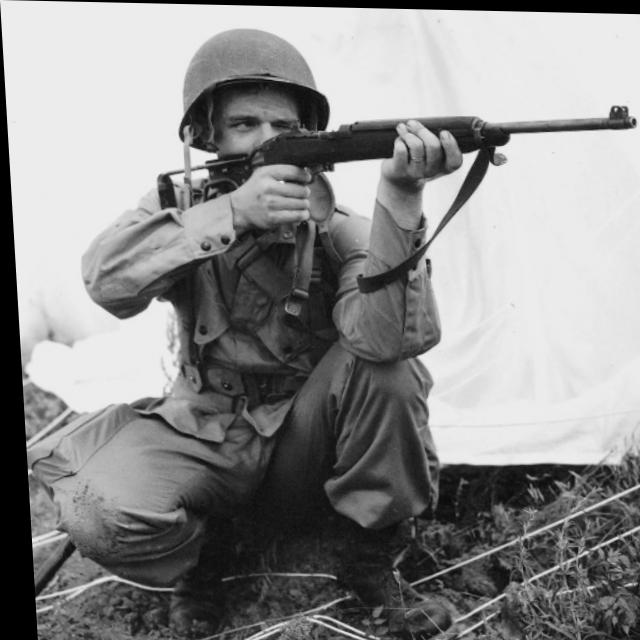other: (120, 26, 442, 626)
